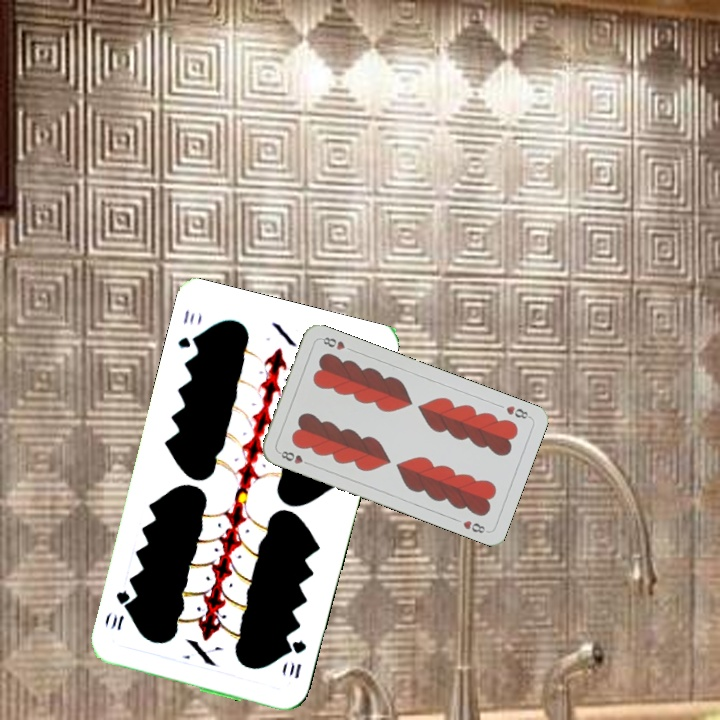G10: (173, 305, 202, 351), (284, 636, 309, 681)
H8: (275, 447, 314, 468), (502, 401, 533, 422)
